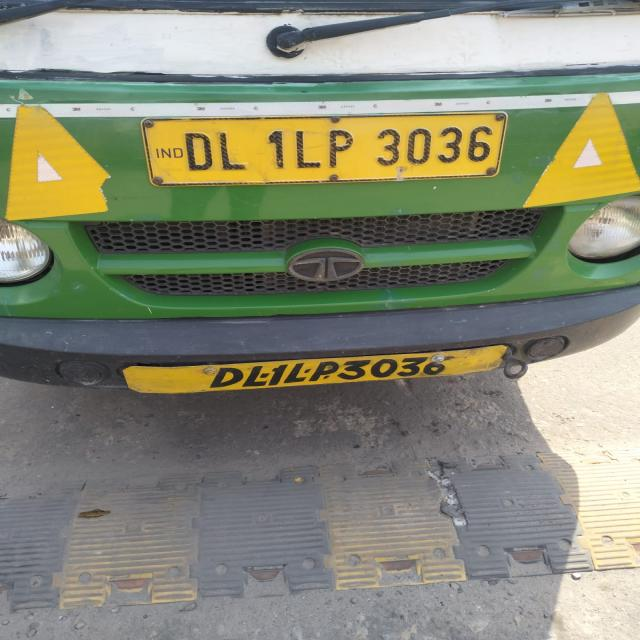License-plate: (150, 120, 504, 174)
